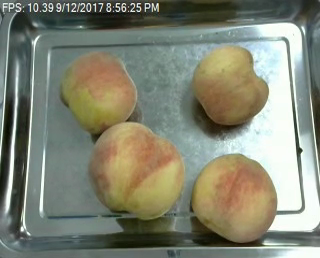Peach: (88, 121, 181, 218), (191, 152, 278, 243), (60, 50, 138, 133), (191, 44, 268, 126)
